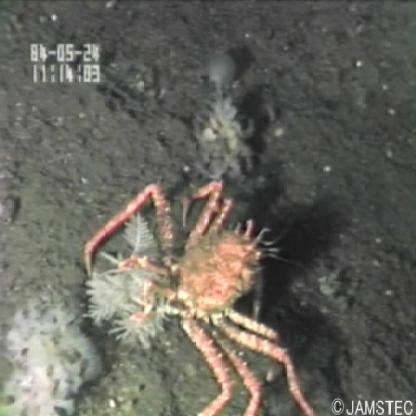Bio: (78, 174, 327, 416)
